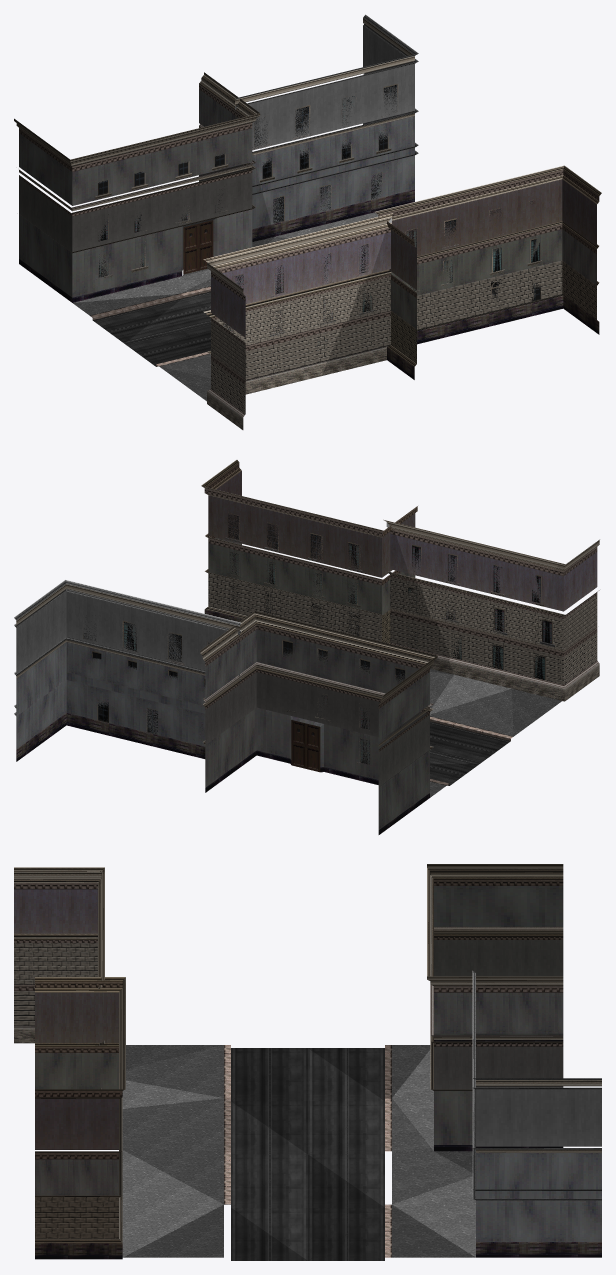
Rendered from primary_136.glb.
3 views of the same model, one above another, from view 1: azimuth 30°, elevation 25°; view 2: azimuth 150°, elevation 25°; view 3: azimuth 270°, elevation 25° (orthographic). The views are drawn at different scales.
Parts seen in each view (by area): view 1: Object; view 2: Object; view 3: Object.
Boxes of the visible parts, box(x1,y1,x2,y2) form: Object: box(14, 14, 601, 429); Object: box(14, 460, 599, 834); Object: box(14, 864, 601, 1260).
Bounding box in the file's own units: 30.67 × 12.04 × 34.84.
Materials: 250 (250 with a texture image).
